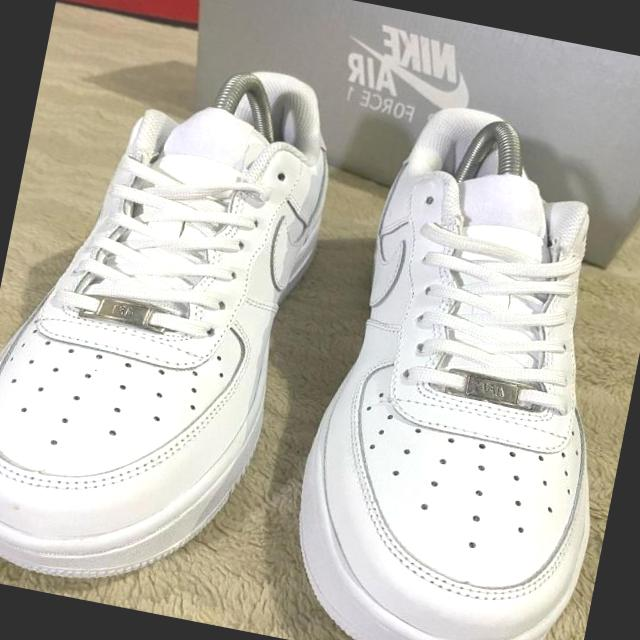nike_fake_airforce: (0, 30, 359, 616), (279, 92, 640, 640)
